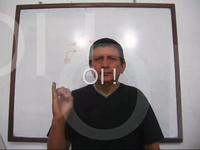oi: (50, 80, 77, 121)
